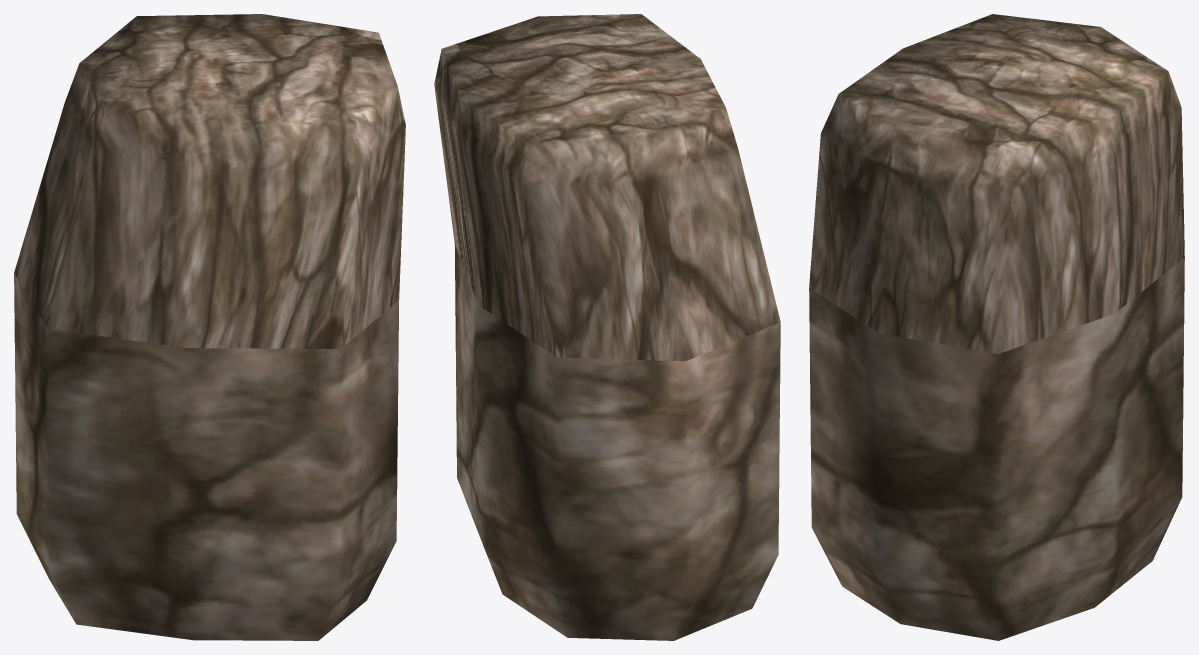
The model's file is OVERHILL_A_01_LINE345.fbx.
3 views of the same model, side by side, from view 1: azimuth 30°, elevation 25°; view 2: azimuth 150°, elevation 25°; view 3: azimuth 270°, elevation 25° (orthographic). The views are drawn at different scales.
Parts seen in each view (by area): view 1: OVERHILL_A_01_LINE345; view 2: OVERHILL_A_01_LINE345; view 3: OVERHILL_A_01_LINE345.
Part boxes in pixels (x1,y1,x2,y2): OVERHILL_A_01_LINE345: (14, 14, 405, 640); OVERHILL_A_01_LINE345: (434, 14, 780, 640); OVERHILL_A_01_LINE345: (809, 14, 1184, 640).
Size of the model in its own units: 15327 by 21861 by 14367.
1 material, 1 textured.
